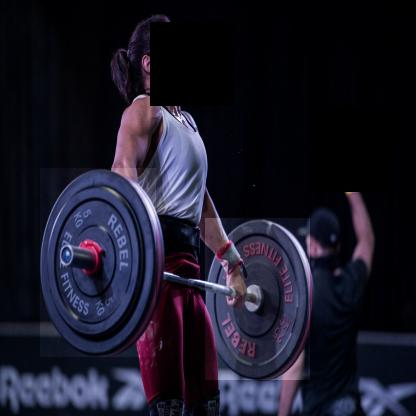barbell: (41, 169, 157, 358), (206, 219, 311, 381)
